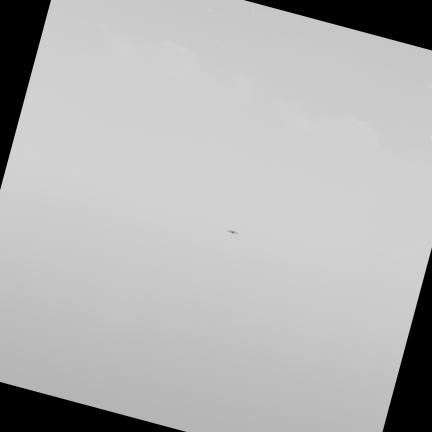Shahed: (226, 230, 237, 233)
